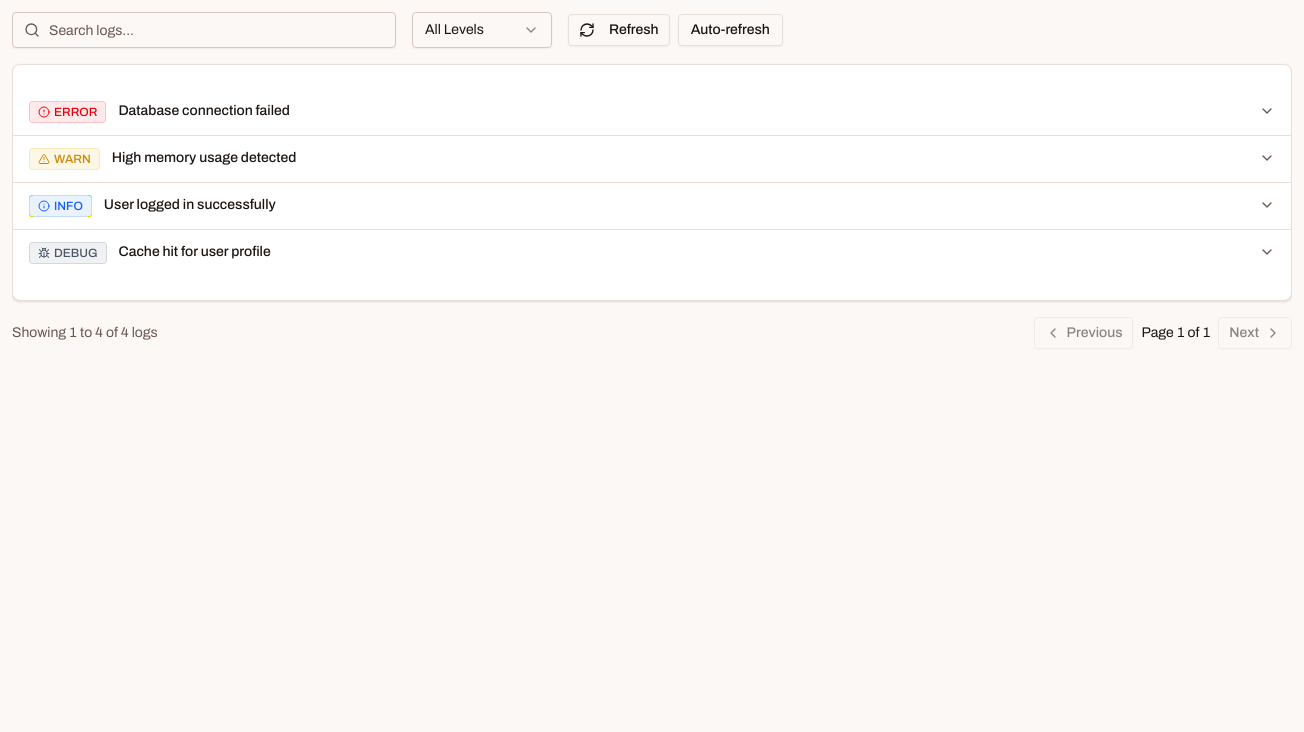
Test: components/admin/logs-viewer › rendering › should display context in expandable accordion
This screenshot has width=1304, height=732.
Click the button "ERROR Database connection failed": x=68, y=112 [13,89,1291,135]
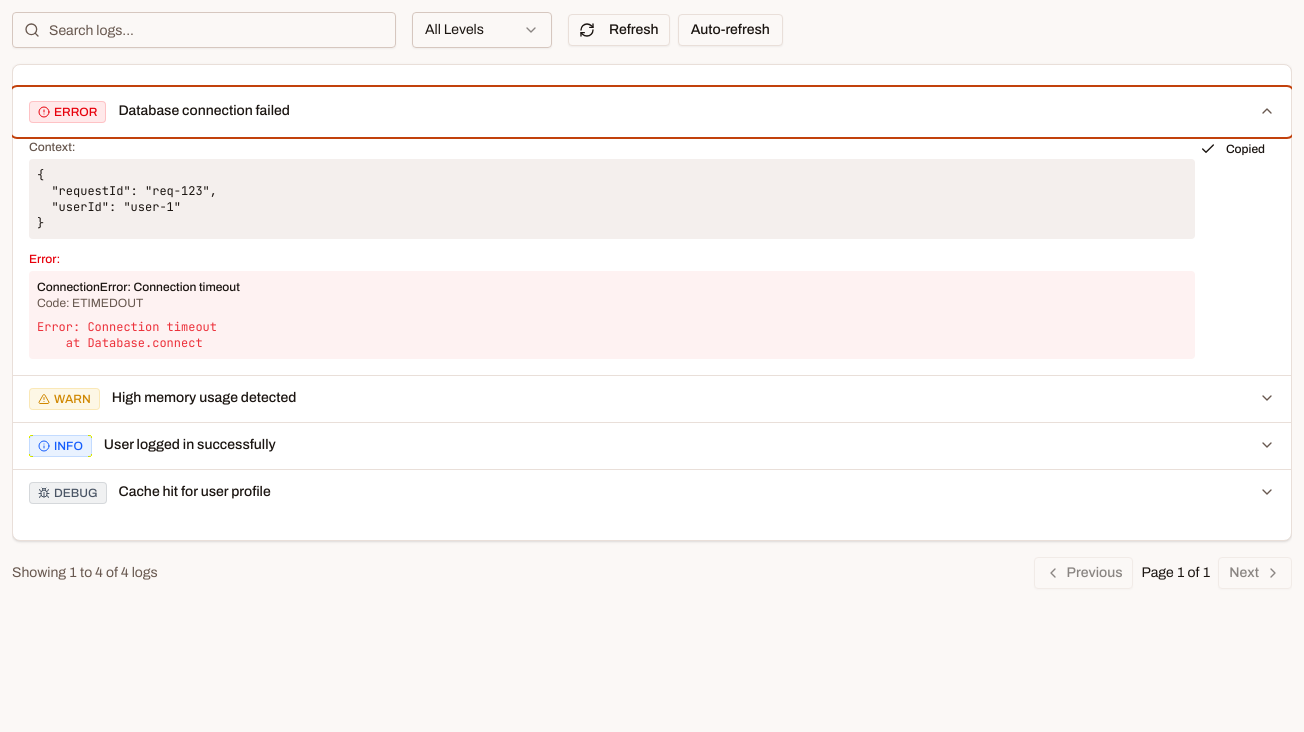
Expected: the text "Context:" is shown, [29,140,76,154]
Expected: the text "{ \"requestId\": \"req-123\", \"userId\": \"user-1\" }" is shown, [29,159,1195,239]
